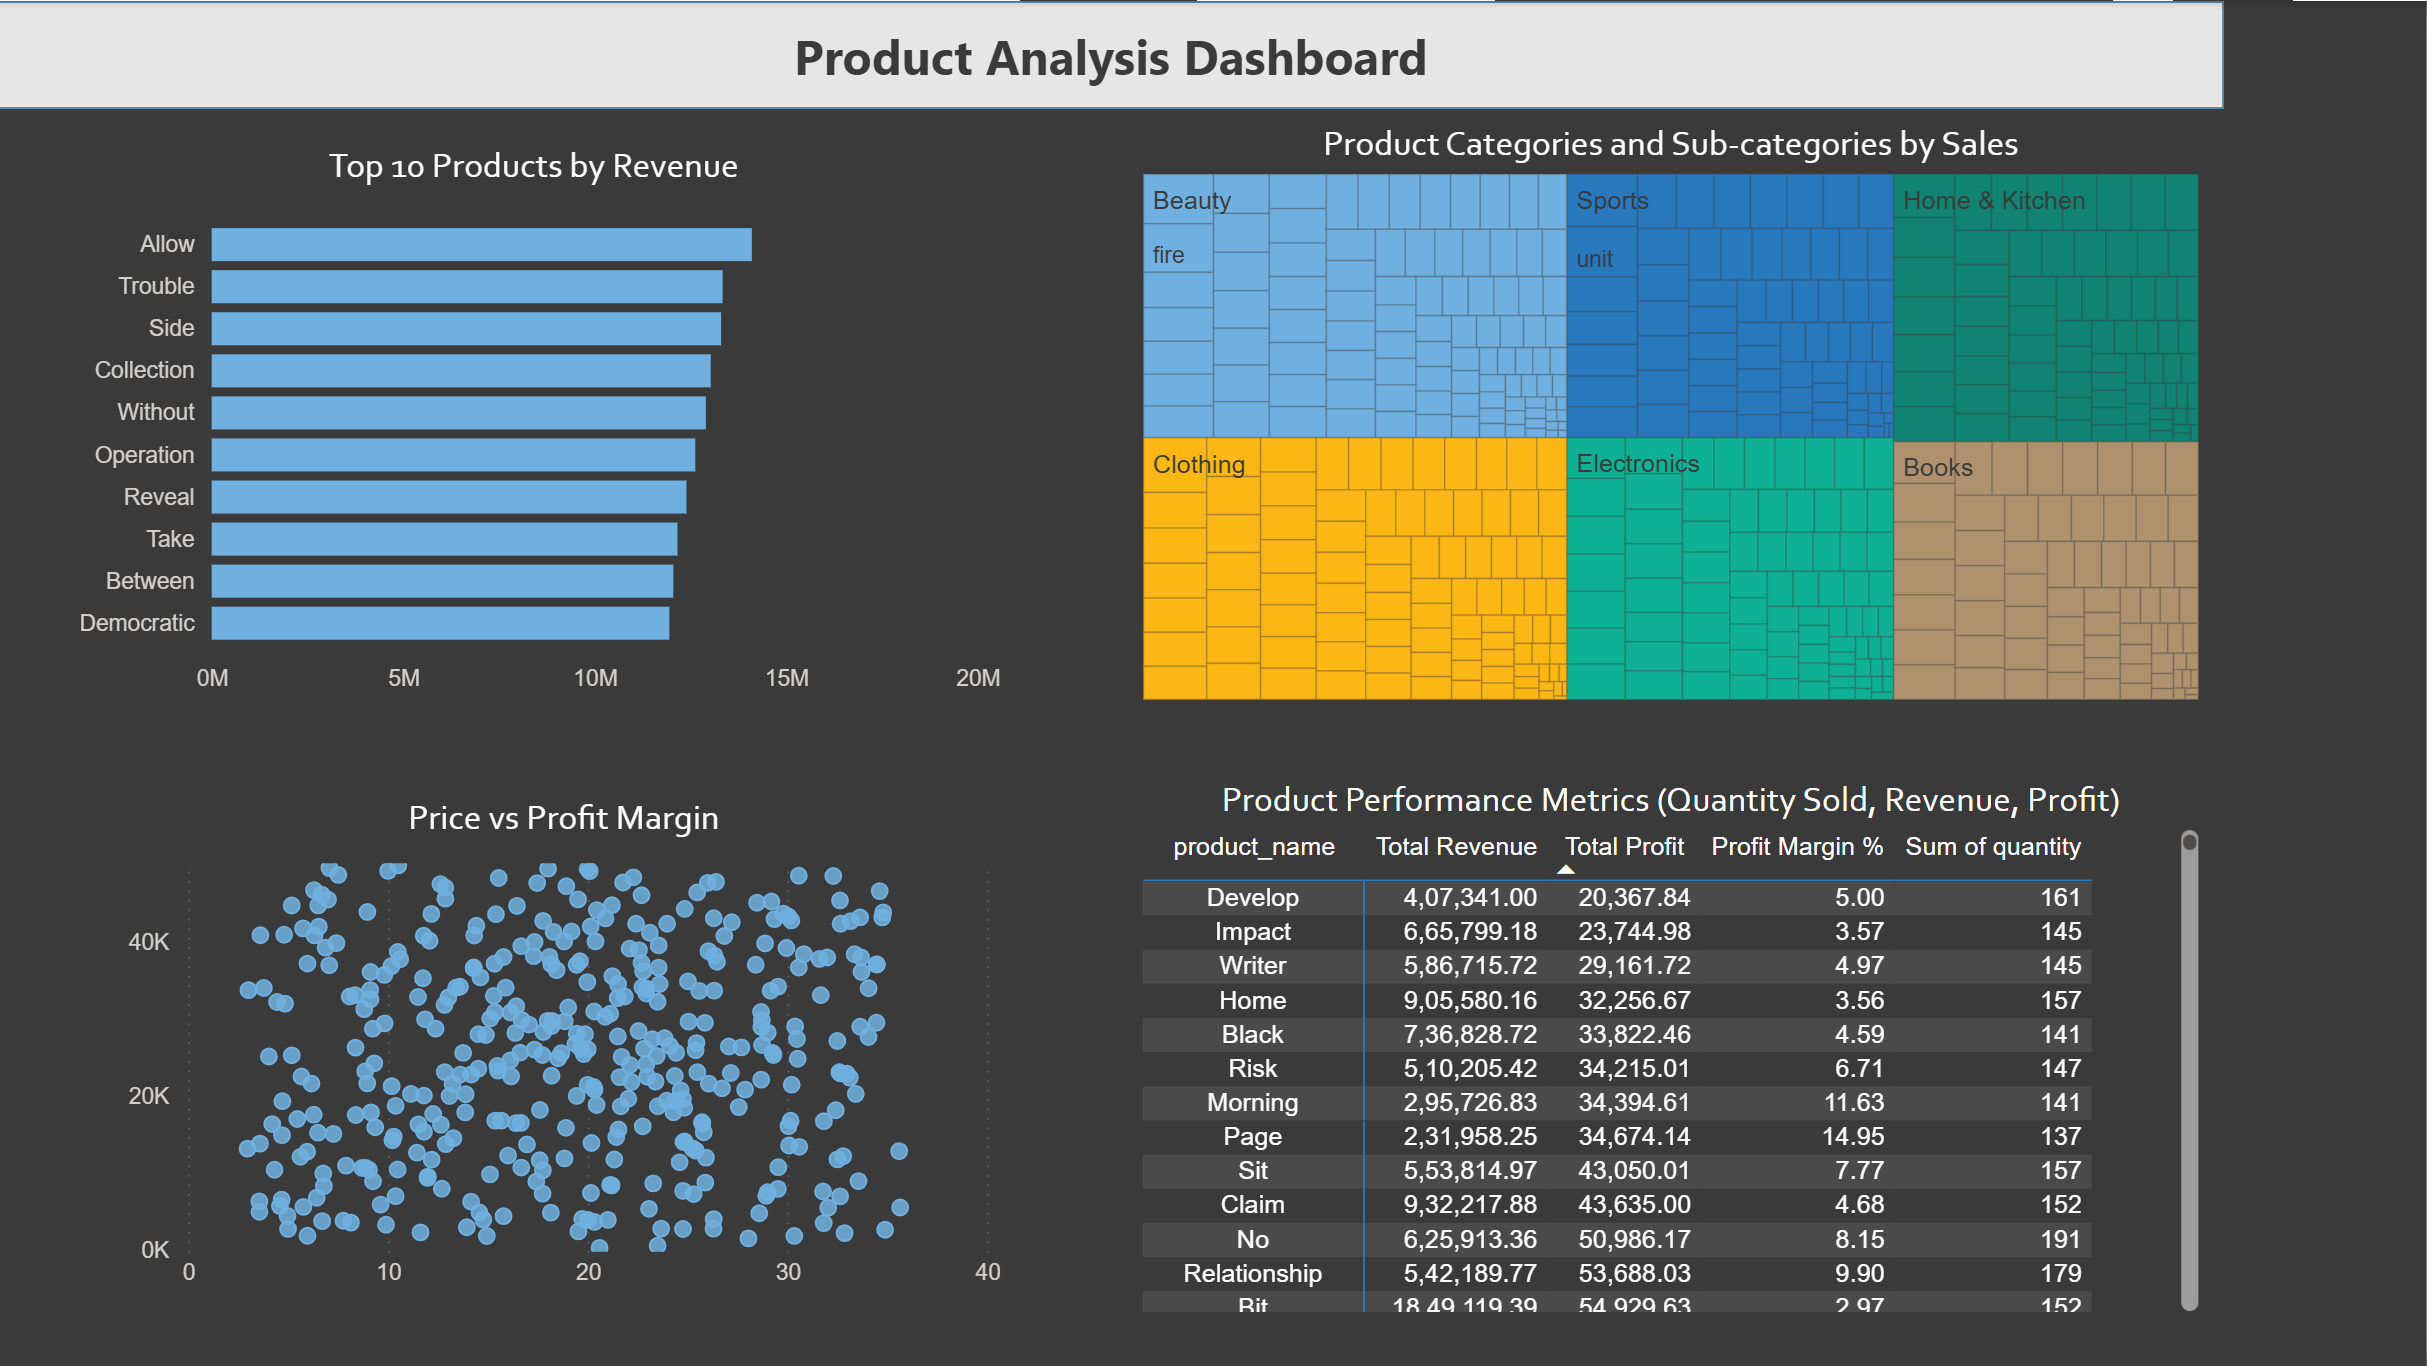

The page's visual inventory and layout, read from the dashboard file:
{"tool":"powerbi","page":{"name":"Page 2","canvas":[1280,720],"ordinal":1},"visuals":[{"type":"clusteredBarChart","title":"Top 10 Products by Revenue","fields":{"Category":["warehouse dim_products.product_name"],"Y":["Measure Table.Total Revenue"]},"box":[31.8,75.1,501.6,298],"z":0},{"type":"treemap","title":"Product Categories and Sub-categories by Sales","fields":{"Details":["warehouse dim_products.sub_category"],"Values":["Measure Table.Total Revenue"],"Group":["warehouse dim_products.category"]},"box":[598.8,63.3,566.1,309.9],"z":1000},{"type":"scatterChart","title":"Price vs Profit Margin","fields":{"Category":["warehouse dim_products.product_name"],"X":["Measure Table.Profit Margin %"],"Y":["Avg(warehouse fact_sales.unit_price)"]},"box":[63.3,418.5,470.2,267.8],"z":2000},{"type":"pivotTable","title":"Product Performance Metrics (Quantity Sold, Revenue, Profit)","fields":{"Rows":["warehouse dim_products.product_name"],"Values":["Measure Table.Total Revenue","Measure Table.Total Profit","Measure Table.Profit Margin %","Sum(warehouse fact_sales.quantity)"]},"box":[598.8,409,566.1,286.7],"z":3000},{"type":"shape","box":[0,0,1173.3,56.9],"z":3001}]}

Visuals, with their boxes in screenshot pixels (x1, y1, x2, y2), scaled from the page's 1280x720 canvas onto the 2427x1366 screenshot:
"Top 10 Products by Revenue" clusteredBarChart: 60,142,1011,708
"Product Categories and Sub-categories by Sales" treemap: 1135,120,2209,708
"Price vs Profit Margin" scatterChart: 120,794,1012,1302
"Product Performance Metrics (Quantity Sold, Revenue, Profit)" pivotTable: 1135,776,2209,1320
shape: 0,0,2225,108
